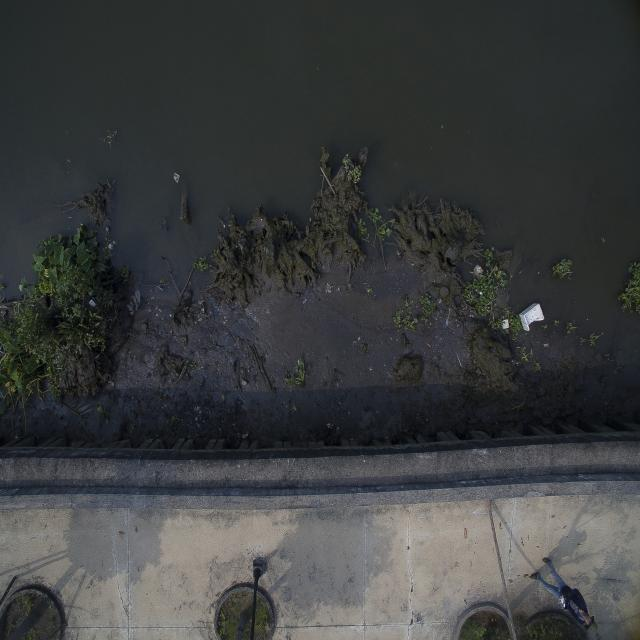plastic: (518, 298, 550, 337), (504, 314, 511, 334)
